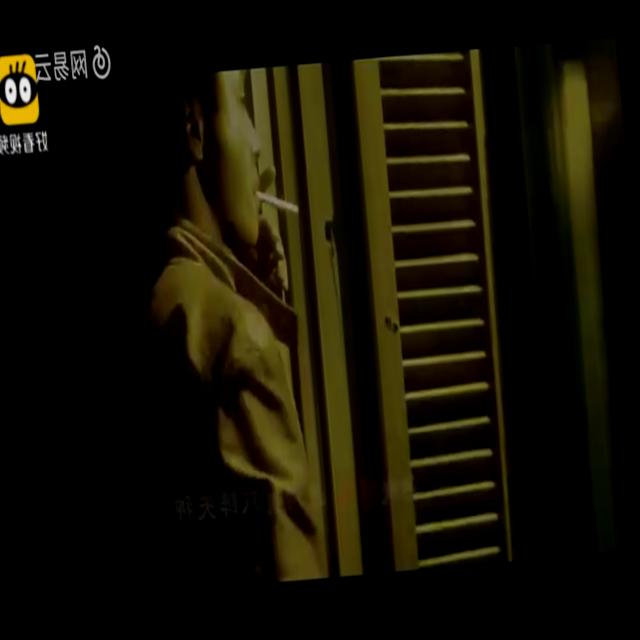cigarette: (256, 187, 300, 220)
